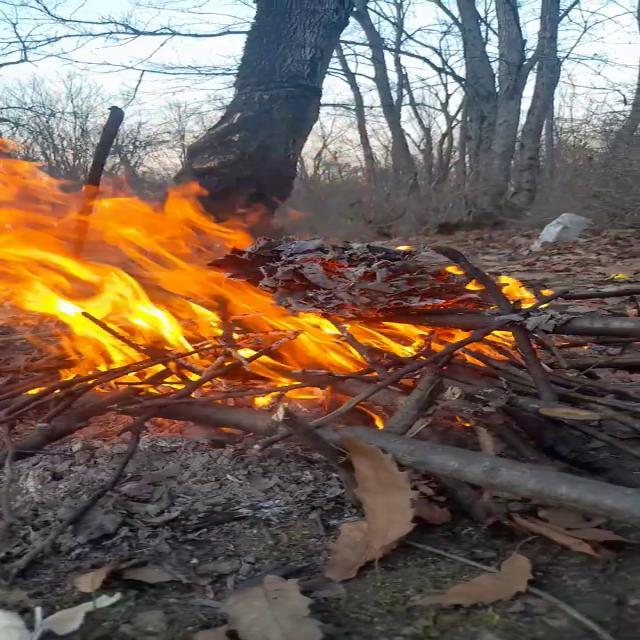Fire: (1, 162, 550, 408)
